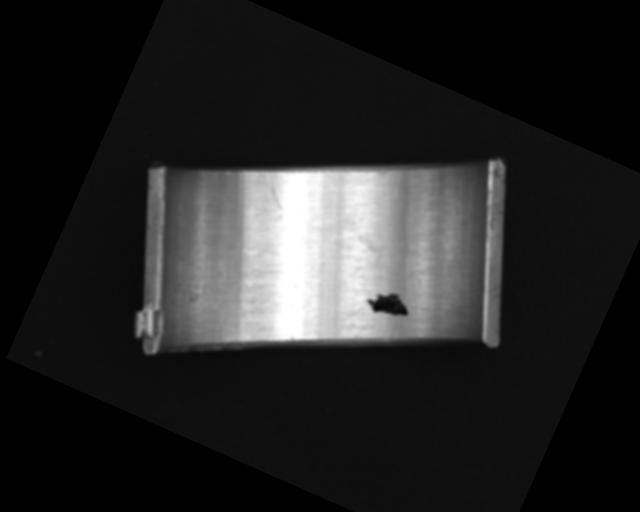blot: (345, 232, 410, 284), (361, 282, 415, 327)
bruise: (378, 166, 388, 177), (287, 333, 297, 342)
nick: (254, 168, 294, 211)
